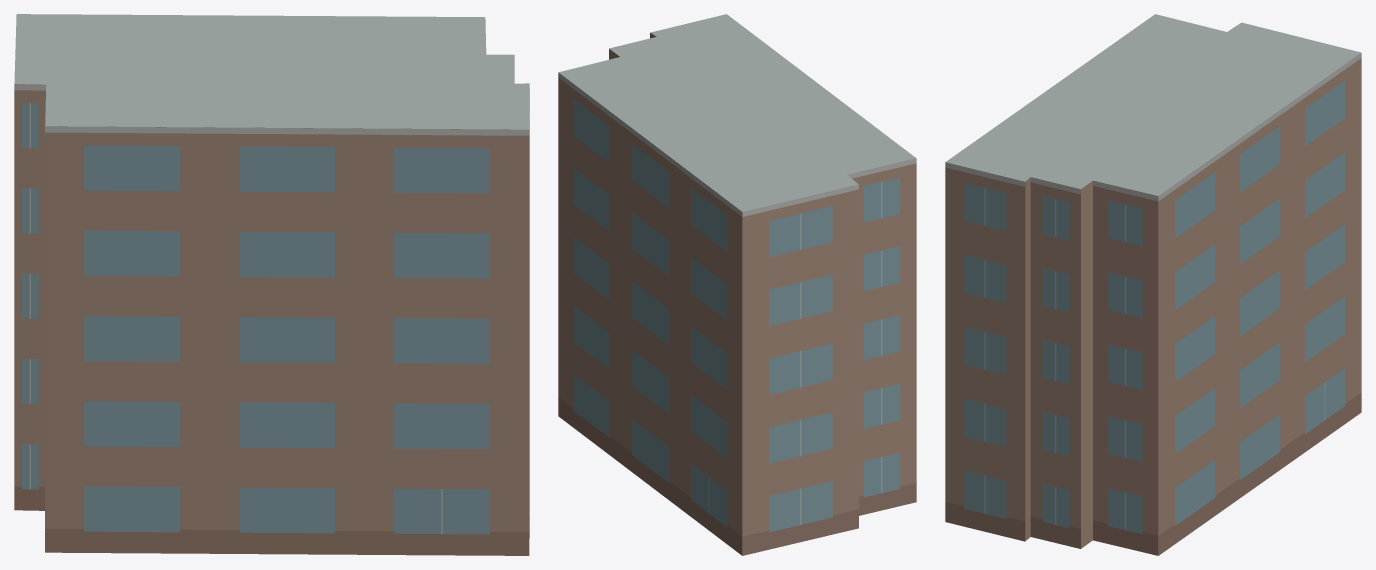
Rendered from survey-upis-32980390.glb.
The picture shows the model from 3 angles, left to right: view 1: azimuth 30°, elevation 25°; view 2: azimuth 150°, elevation 25°; view 3: azimuth 270°, elevation 25°; orthographic projection. The views are drawn at different scales.
Parts seen in each view (by area): view 1: survey-upis-32980390.tmp; view 2: survey-upis-32980390.tmp; view 3: survey-upis-32980390.tmp.
Boxes of the visible parts, x1,y1,x2,y2 form: survey-upis-32980390.tmp: (14,14,529,555); survey-upis-32980390.tmp: (558,14,916,555); survey-upis-32980390.tmp: (945,14,1361,555).
Size of the model in its own units: 18.13 by 16.7 by 17.52.
